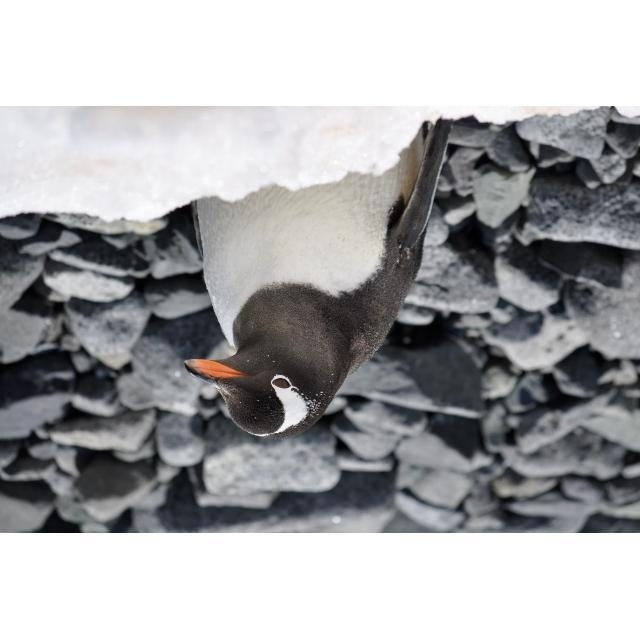penguin: (183, 119, 453, 439)
